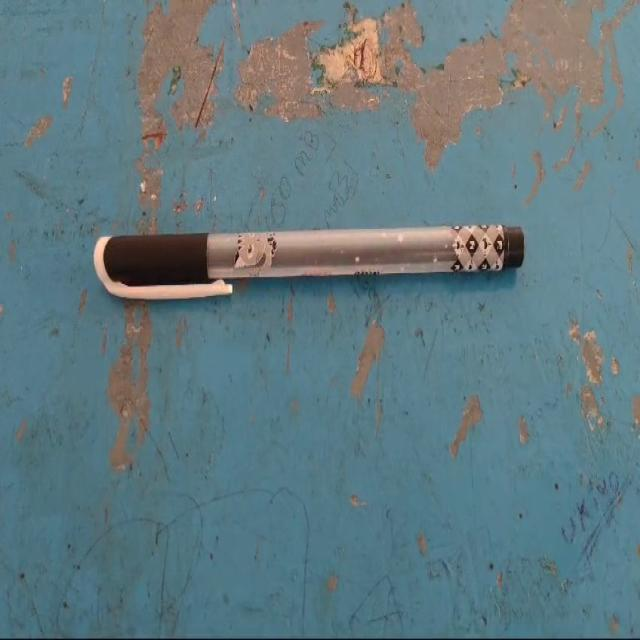pen: (64, 134, 563, 404)
